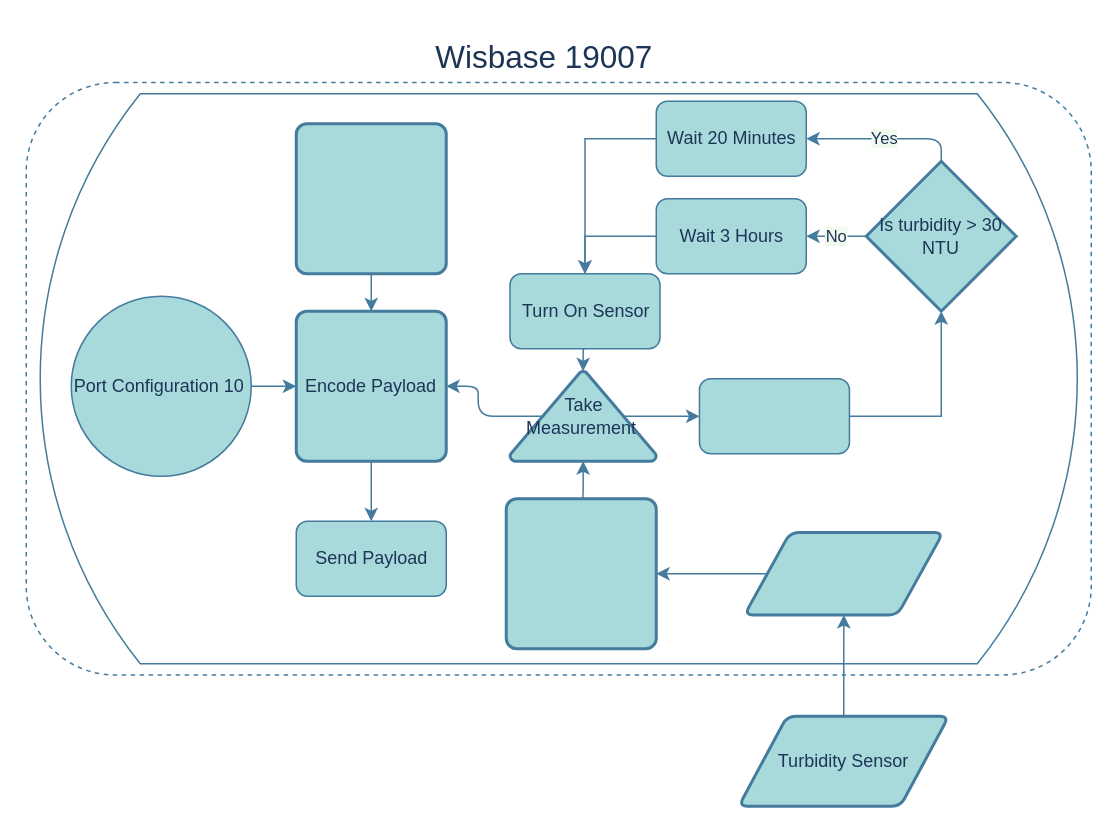
Image size: 1118x833. Some labels were removed from this diagram. Each missing label, with the centre of its shape:
AIN1: point (843, 573)
Convert Analoge Signal to NTU: point (580, 573)
Obtain Session Token / Authenticate with Lora: point (370, 198)
Turn off Sensor: point (773, 415)
